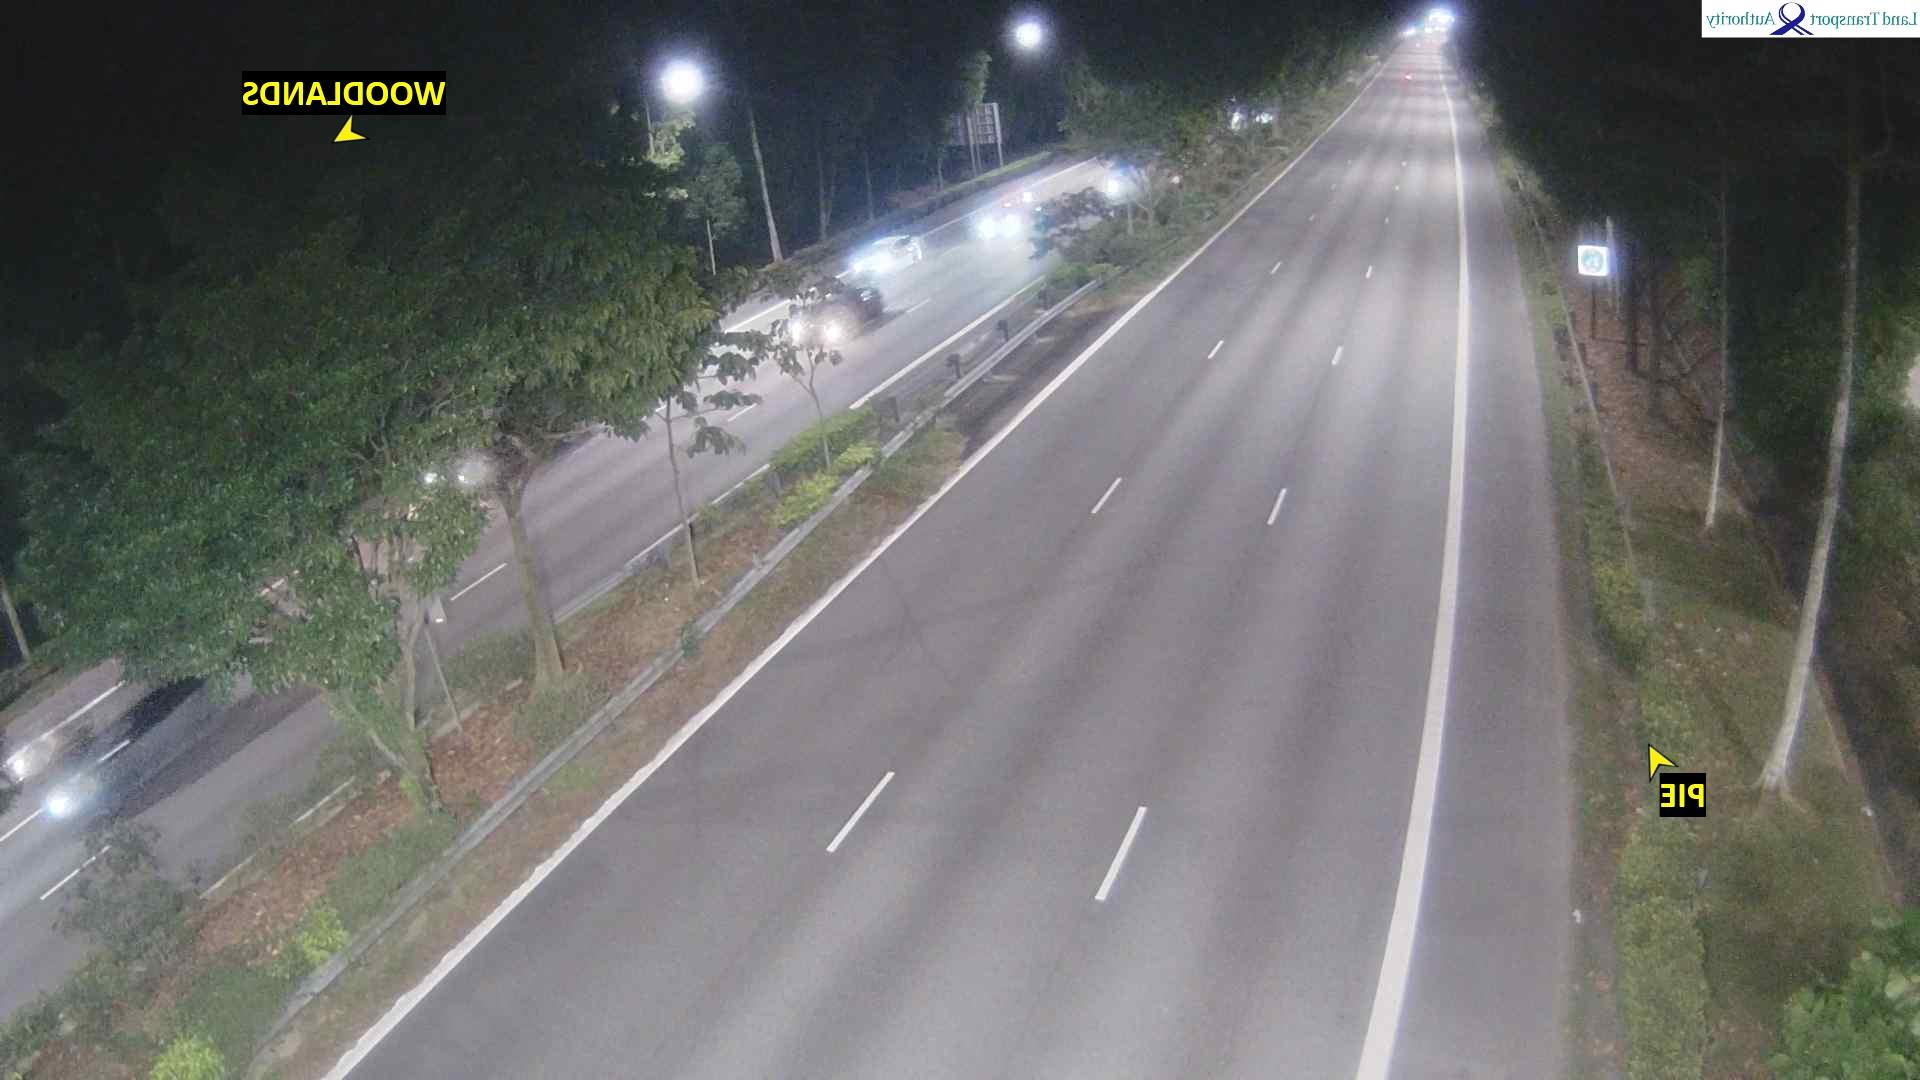cars: (44, 673, 218, 827), (388, 448, 498, 530), (789, 274, 885, 345), (975, 189, 1043, 251), (848, 232, 924, 277), (1098, 157, 1149, 203), (1226, 94, 1279, 135)
